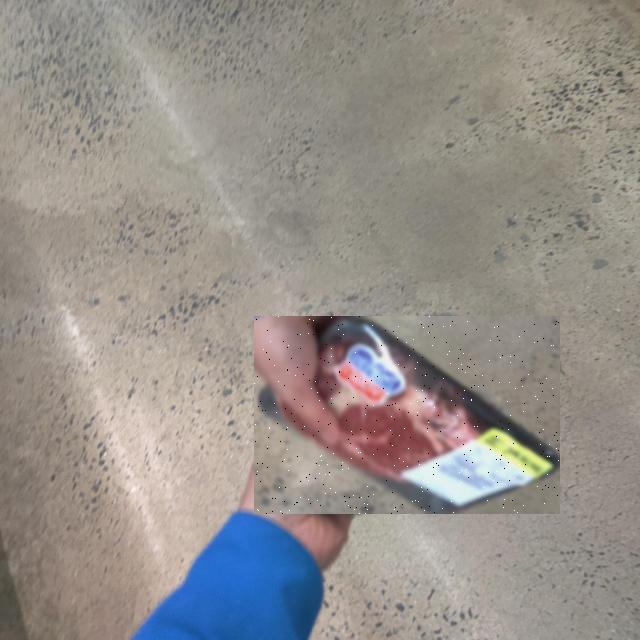Meat: (254, 316, 560, 514)
